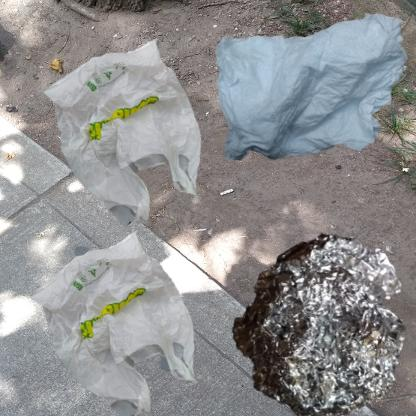aluminio: (213, 213, 416, 416)
bolsa: (10, 10, 251, 259), (10, 213, 226, 416)
papel: (213, 10, 416, 166)
